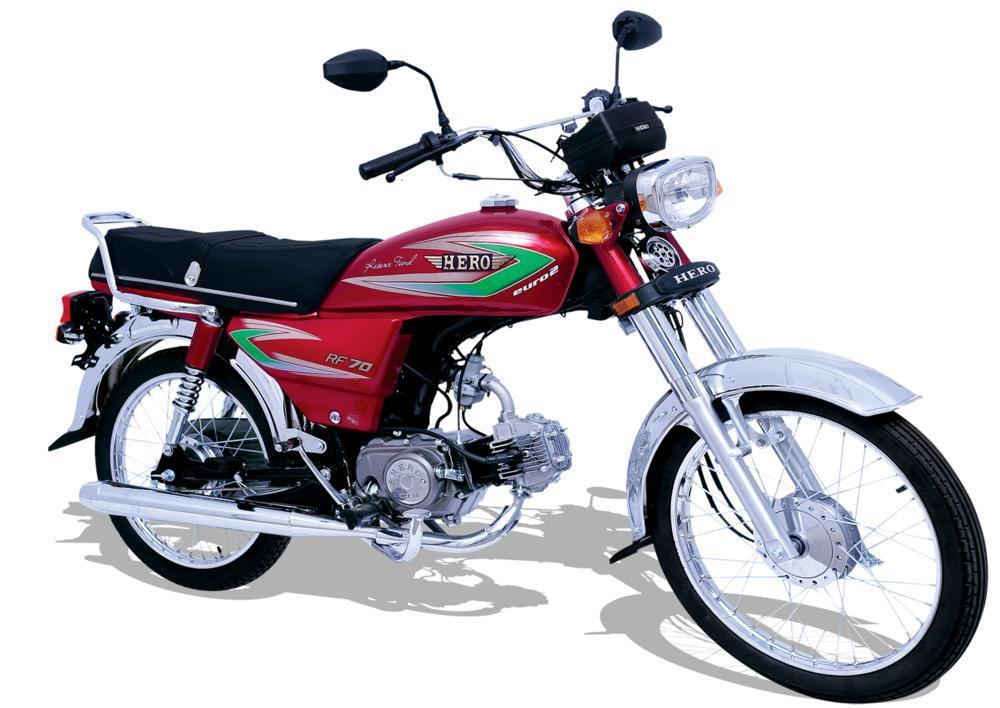motorcycle: (14, 15, 992, 684)
